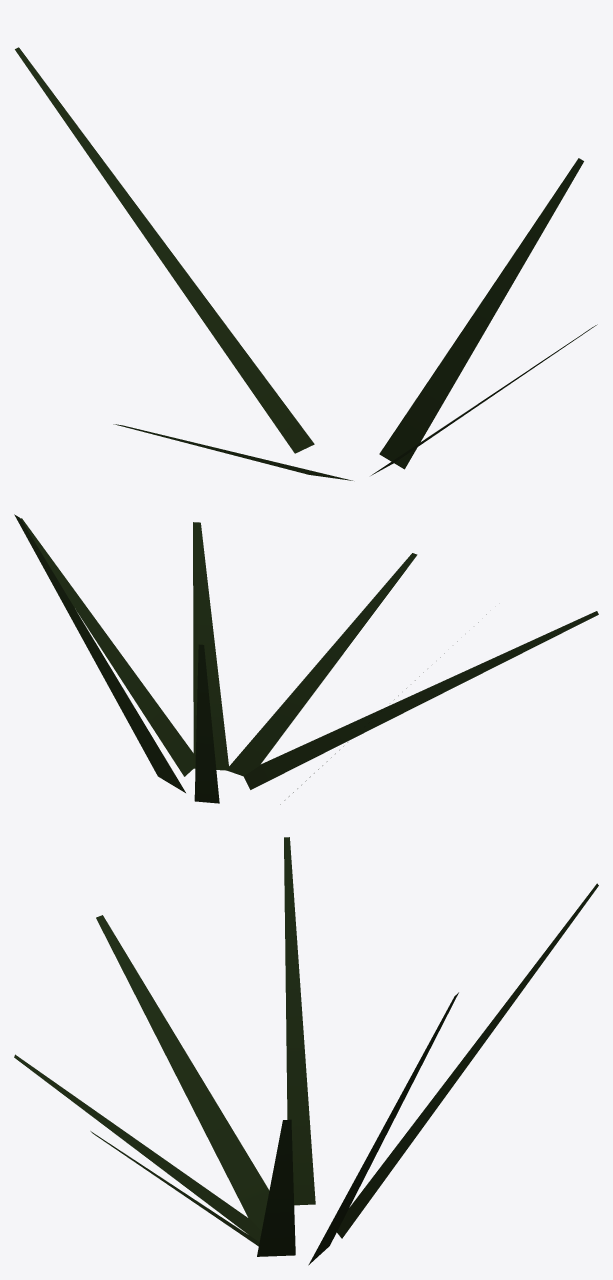
Rendered from shi-daze-wet-field-vegetation-v1-tuft-lod1.glb.
3 renders of one model, top to bottom at view 1: azimuth 30°, elevation 25°; view 2: azimuth 150°, elevation 25°; view 3: azimuth 270°, elevation 25°, orthographic. The views are drawn at different scales.
Visible parts, largest first — view 1: SM_SHI_LowBladeTuft_01_LOD1; view 2: SM_SHI_LowBladeTuft_01_LOD1; view 3: SM_SHI_LowBladeTuft_01_LOD1.
Part boxes in pixels (left/top/right/bottom): SM_SHI_LowBladeTuft_01_LOD1: left=15, top=47, right=597, bottom=480; SM_SHI_LowBladeTuft_01_LOD1: left=14, top=514, right=598, bottom=804; SM_SHI_LowBladeTuft_01_LOD1: left=14, top=837, right=598, bottom=1265.
Bounding box in the file's own units: 0.9 × 0.52 × 0.9.
